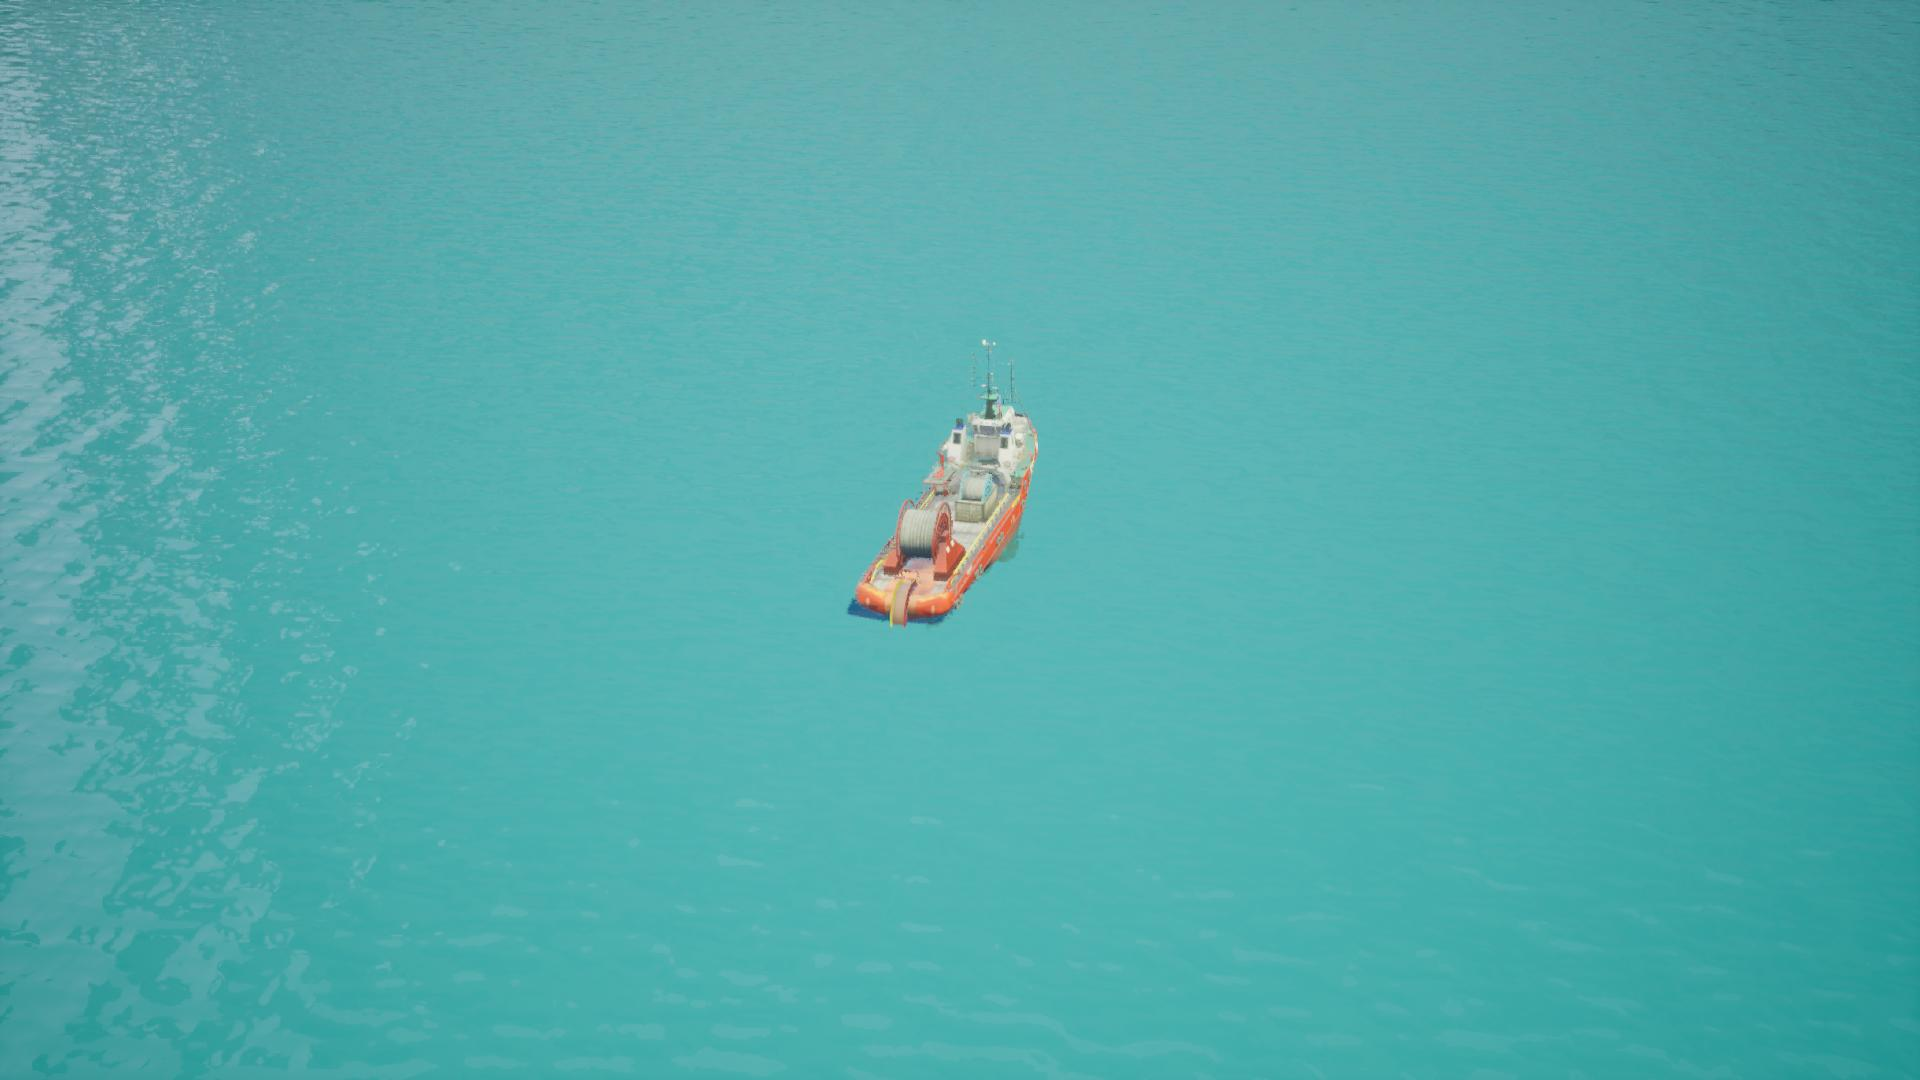Tug Boat: (866, 340, 1043, 630)
